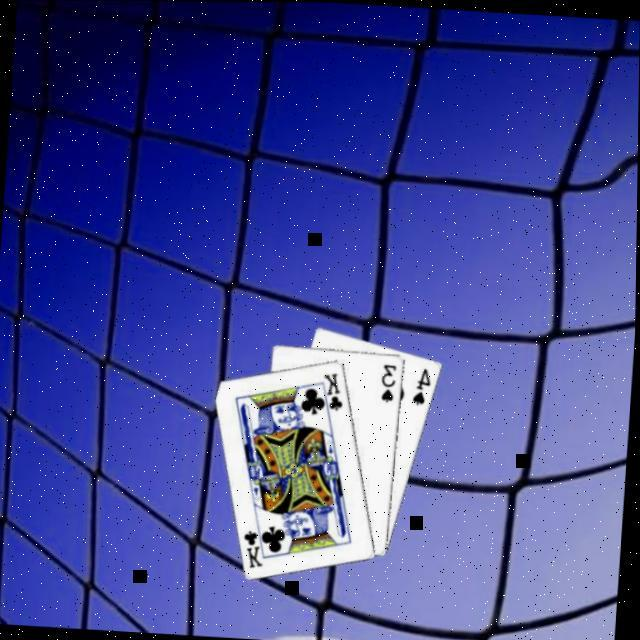3S: (376, 360, 399, 403)
4S: (409, 363, 434, 406)
KC: (316, 368, 348, 418), (239, 519, 271, 569)
